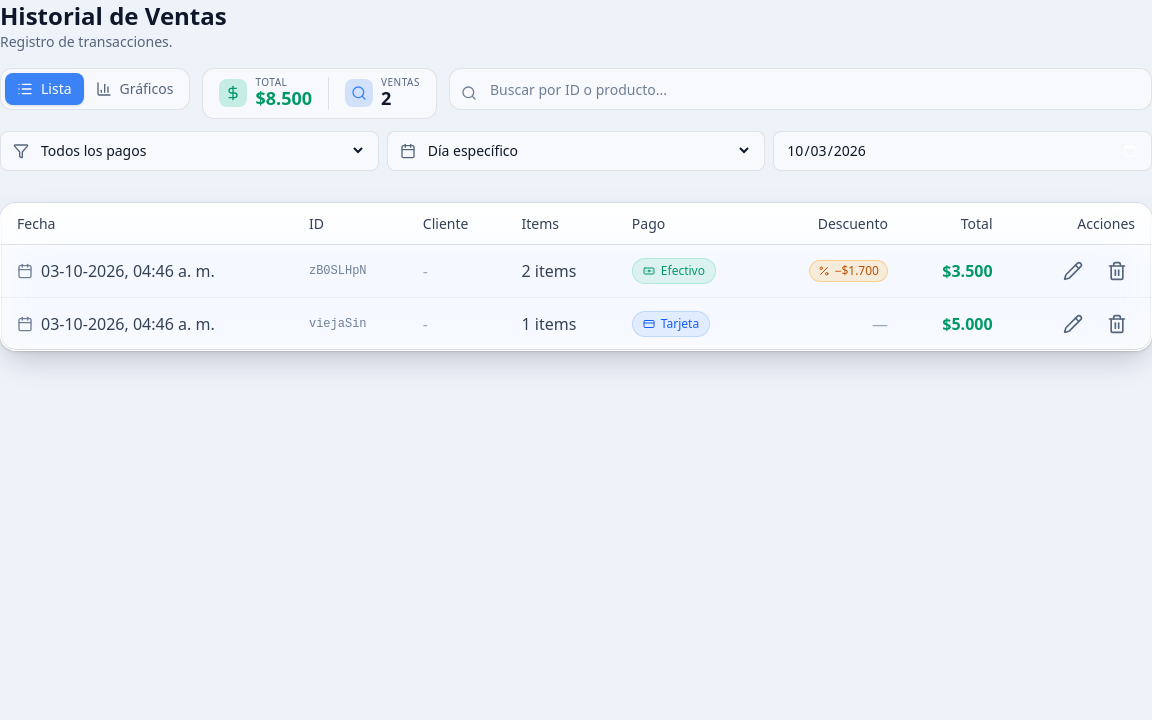
it: Historial de ventas › detalle: lista tachada, %, subtotal, descuentos y total
What coordinates should you click on to do the following:
click the button titled "Editar Tipo de Pago / Ver Detalle" in the row of "zB0SLHpN"
I would click on:
 (1073, 270)
Its box is [1055, 252, 1091, 288].
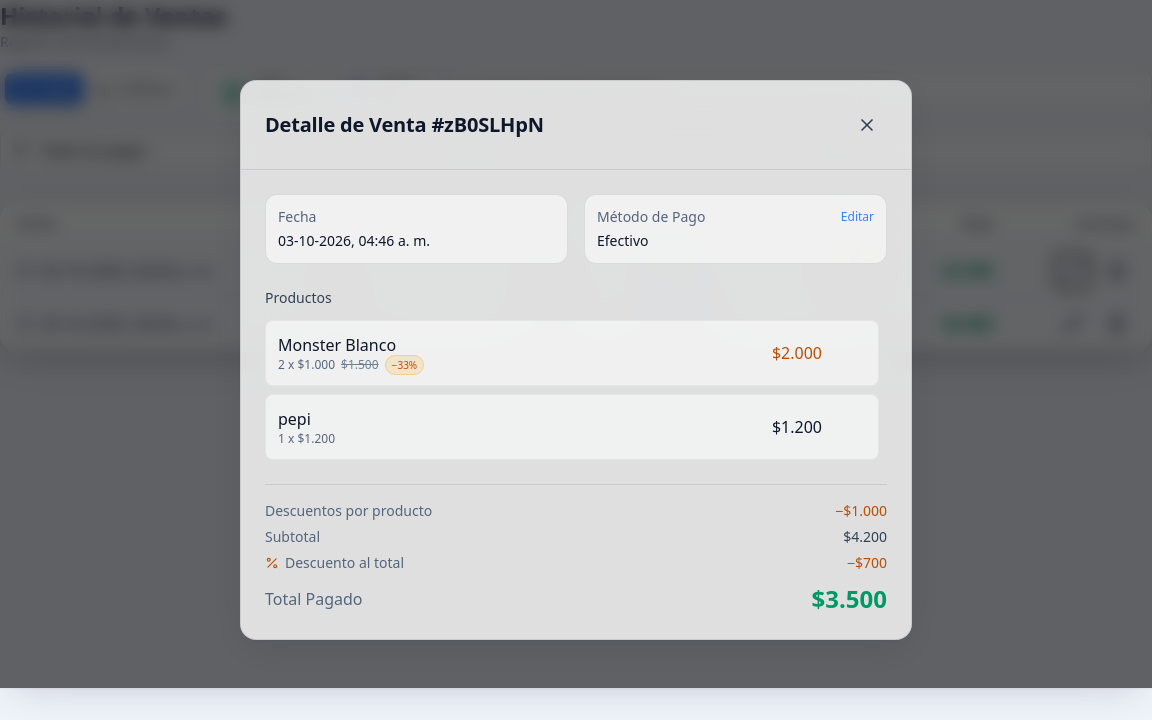
Check: the text "−33%" is shown, box [385, 355, 424, 375]
